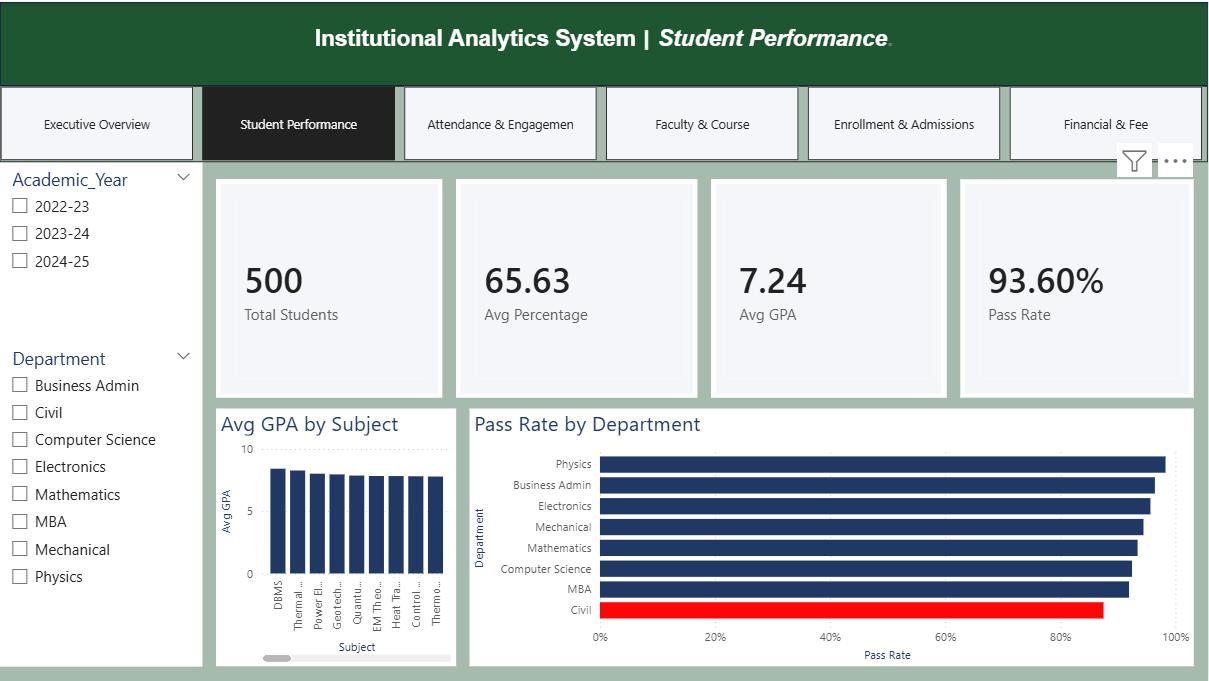

The dashboard page shown, as its layout file describes it:
{"tool":"powerbi","page":{"name":"Student Performance","canvas":[1280,720],"ordinal":1},"visuals":[{"type":"shape","box":[0,0,1280.8,89.1],"z":0},{"type":"textbox","box":[0,19.4,1280.8,69.6],"z":1000},{"type":"pageNavigator","box":[0,89.1,1280.8,81],"z":2000},{"type":"slicer","fields":{"Values":["Students_Master.Academic_Year"]},"box":[0,170.2,214.7,189.3],"z":3000},{"type":"slicer","fields":{"Values":["Students_Master.Department"]},"box":[0,359.5,214.7,345.2],"z":4000},{"type":"cardVisual","fields":{"Data":["Admissions.Total Students"]},"box":[229,187.7,240.2,232.2],"z":5000},{"type":"cardVisual","fields":{"Data":["Admissions.Avg Percentage"]},"box":[483.5,187.7,256.1,232.2],"z":6000},{"type":"cardVisual","fields":{"Data":["Admissions.Avg GPA"]},"box":[753.9,187.7,249.7,232.2],"z":7000},{"type":"cardVisual","fields":{"Data":["Admissions.Pass Rate"]},"box":[1018,187.7,248.1,232.2],"z":8000},{"type":"clusteredBarChart","fields":{"Category":["Students_Master.Department"],"Y":["Admissions.Pass Rate"]},"box":[497.9,431.1,768.3,273.6],"z":9000},{"type":"clusteredColumnChart","fields":{"Category":["Student_Performance.Subject"],"Y":["Admissions.Avg GPA"]},"box":[229,431.1,254.5,273.6],"z":10000}]}

Visuals, with their boxes on the page's 1280x720 design canvas (x1, y1, x2, y2). These are canvas units, not pixel positions in the 1209x681 screenshot, which may show the page scaled, cropped or inside an application window:
shape: x1=0 y1=0 x2=1281 y2=89
textbox: x1=0 y1=19 x2=1281 y2=89
pageNavigator: x1=0 y1=89 x2=1281 y2=170
slicer - Students_Master.Academic_Year: x1=0 y1=170 x2=215 y2=360
slicer - Students_Master.Department: x1=0 y1=360 x2=215 y2=705
cardVisual - Admissions.Total Students: x1=229 y1=188 x2=469 y2=420
cardVisual - Admissions.Avg Percentage: x1=484 y1=188 x2=740 y2=420
cardVisual - Admissions.Avg GPA: x1=754 y1=188 x2=1004 y2=420
cardVisual - Admissions.Pass Rate: x1=1018 y1=188 x2=1266 y2=420
clusteredBarChart - Students_Master.Department x Admissions.Pass Rate: x1=498 y1=431 x2=1266 y2=705
clusteredColumnChart - Student_Performance.Subject x Admissions.Avg GPA: x1=229 y1=431 x2=484 y2=705
